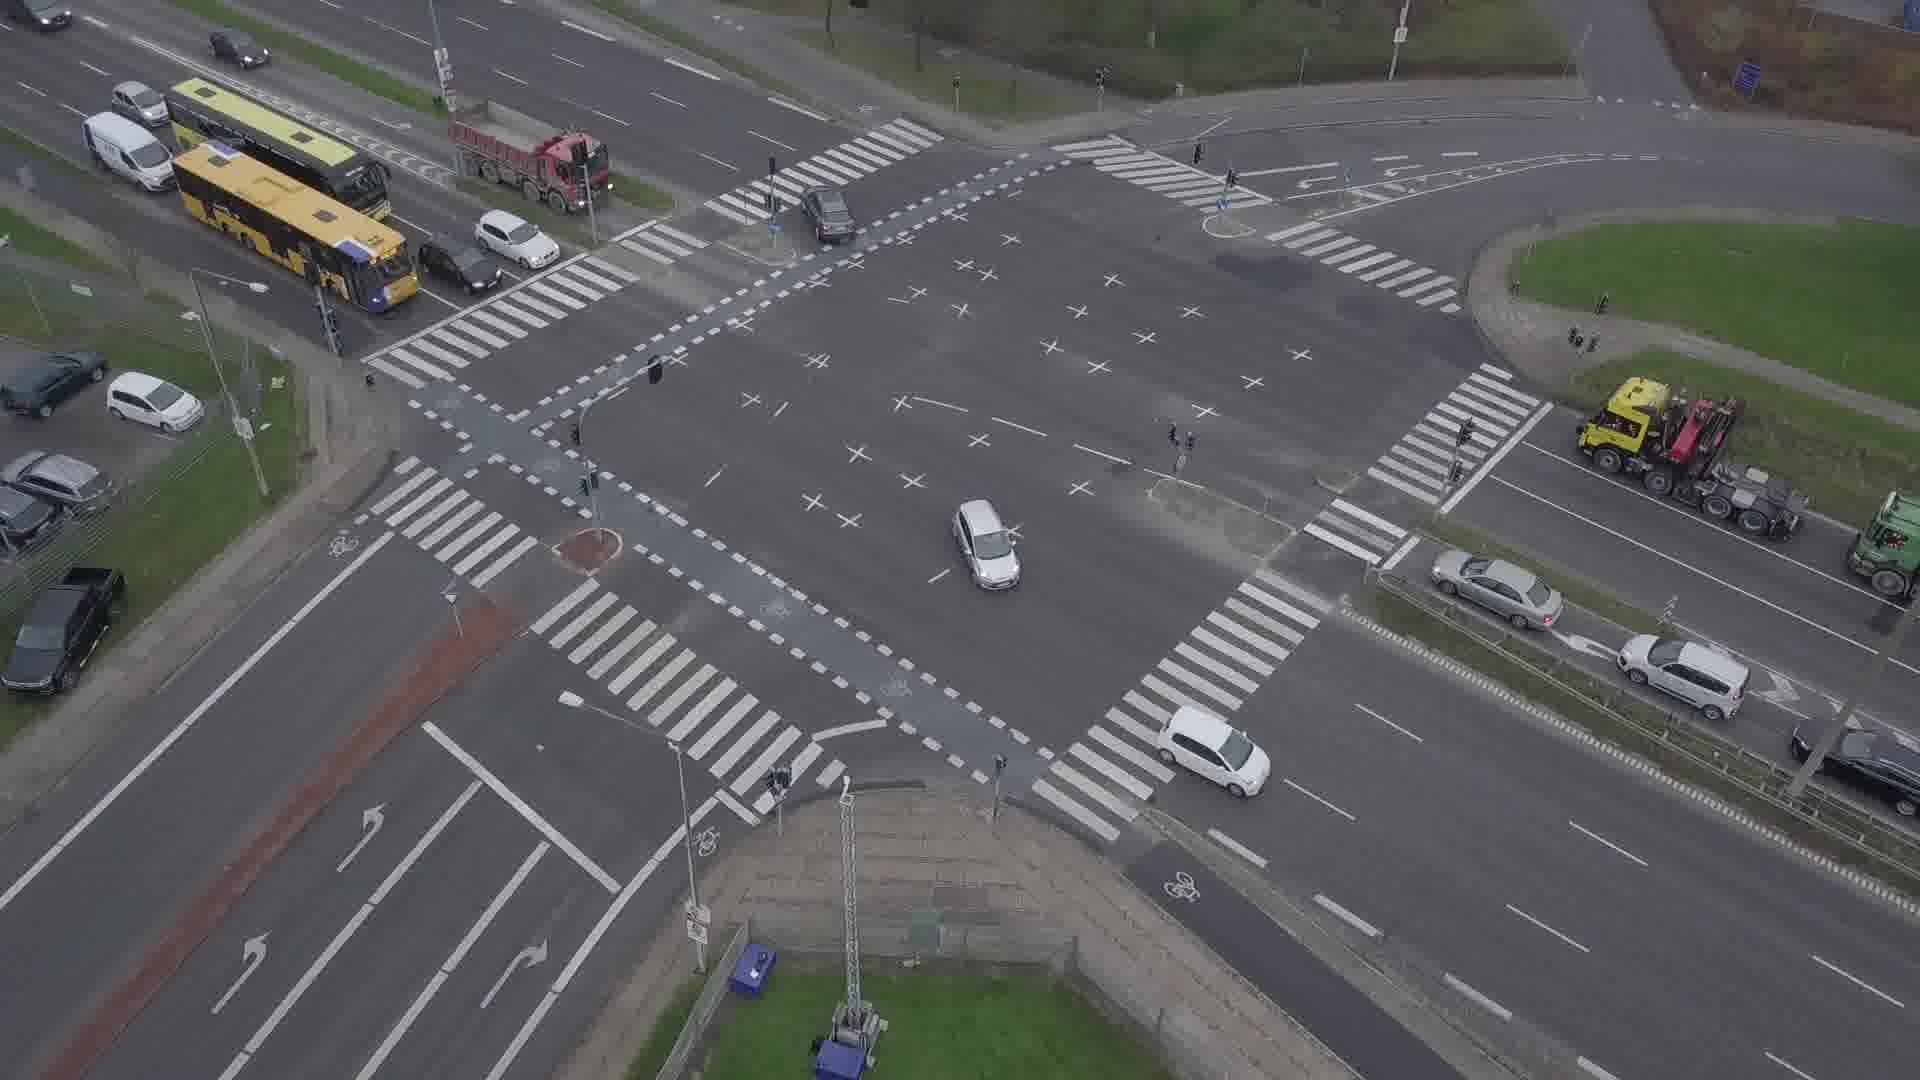bicycle: (320, 308, 347, 347)
bus: (172, 139, 422, 314), (166, 77, 391, 223)
car: (1792, 719, 1920, 820), (1616, 634, 1754, 722), (1430, 550, 1567, 632), (1157, 707, 1271, 797), (953, 499, 1020, 590), (475, 210, 561, 270), (418, 234, 503, 294), (799, 185, 856, 240), (110, 81, 170, 128), (209, 27, 269, 70), (0, 0, 75, 33)
lorry: (1575, 377, 1813, 538), (449, 102, 614, 213), (1846, 490, 1920, 604), (82, 110, 177, 192)
